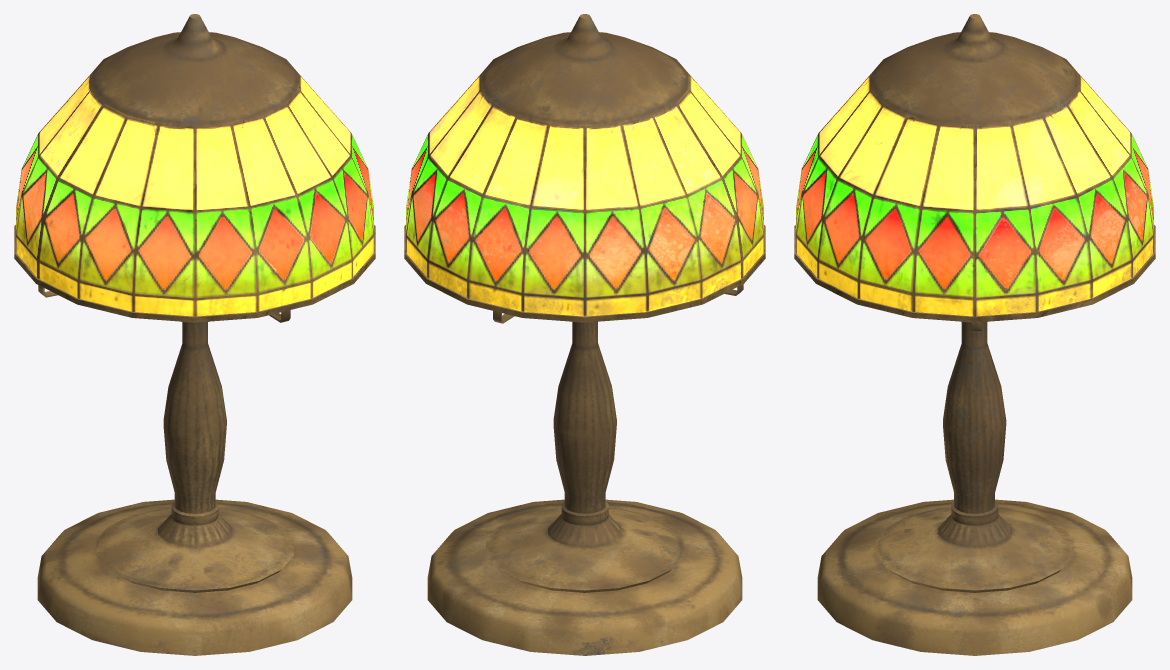
The model's file is retro_lamp.glb.
The picture shows the model from 3 angles, left to right: view 1: azimuth 30°, elevation 25°; view 2: azimuth 150°, elevation 25°; view 3: azimuth 270°, elevation 25°; orthographic projection.
Visible parts, largest first — view 1: Lamp; view 2: Lamp; view 3: Lamp.
Part boxes in pixels (x1,y1,x2,y2): Lamp: [14, 14, 375, 655]; Lamp: [404, 14, 765, 655]; Lamp: [794, 14, 1155, 655].
Size of the model in its own units: 0.4073 by 0.7007 by 0.4011.
1 material, 1 textured.
